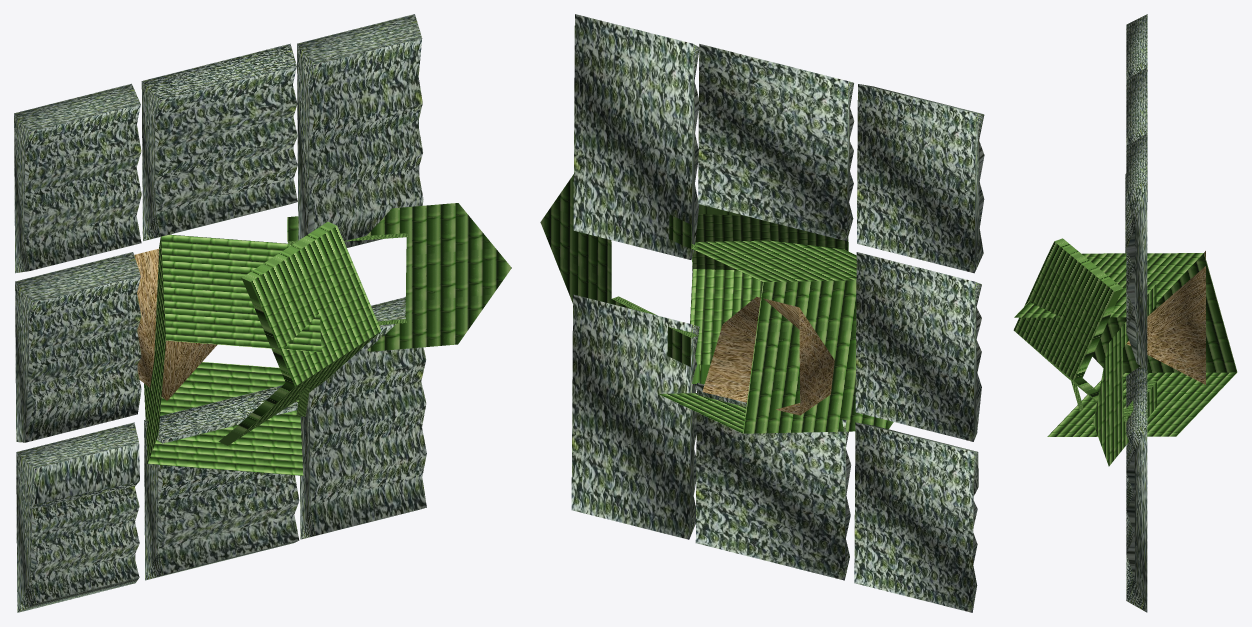
Rendered from farm_000017.obj.
3 views of the same model, side by side, from view 1: azimuth 30°, elevation 25°; view 2: azimuth 150°, elevation 25°; view 3: azimuth 270°, elevation 25° (orthographic). The views are drawn at different scales.
Visible parts, largest first — view 1: Cube.004_Cube.006, house.002_Cube.002, house_Cube, house.001_Cube.001, Cone; view 2: Cube.004_Cube.006, house.002_Cube.002, house_Cube, Cone, house.001_Cube.001; view 3: Cube.004_Cube.006, house.002_Cube.002, house_Cube, Cone, house.001_Cube.001.
Boxes of the visible parts, x1=… form: Cube.004_Cube.006: x1=14, y1=14, x2=426, y2=612; house.002_Cube.002: x1=144, y1=234, x2=321, y2=475; house_Cube: x1=218, y1=222, x2=381, y2=445; house.001_Cube.001: x1=287, y1=203, x2=511, y2=351; Cone: x1=134, y1=248, x2=217, y2=400; Cube.004_Cube.006: x1=571, y1=14, x2=984, y2=612; house.002_Cube.002: x1=658, y1=240, x2=893, y2=433; house_Cube: x1=690, y1=198, x2=848, y2=384; Cone: x1=702, y1=296, x2=834, y2=415; house.001_Cube.001: x1=540, y1=174, x2=698, y2=366; Cube.004_Cube.006: x1=1125, y1=14, x2=1147, y2=612; house.002_Cube.002: x1=1014, y1=253, x2=1237, y2=436; house_Cube: x1=1013, y1=238, x2=1122, y2=402; Cone: x1=1126, y1=251, x2=1205, y2=384; house.001_Cube.001: x1=1093, y1=284, x2=1157, y2=466.
Bounding box in the file's own units: 9.71 × 10 × 4.67.
